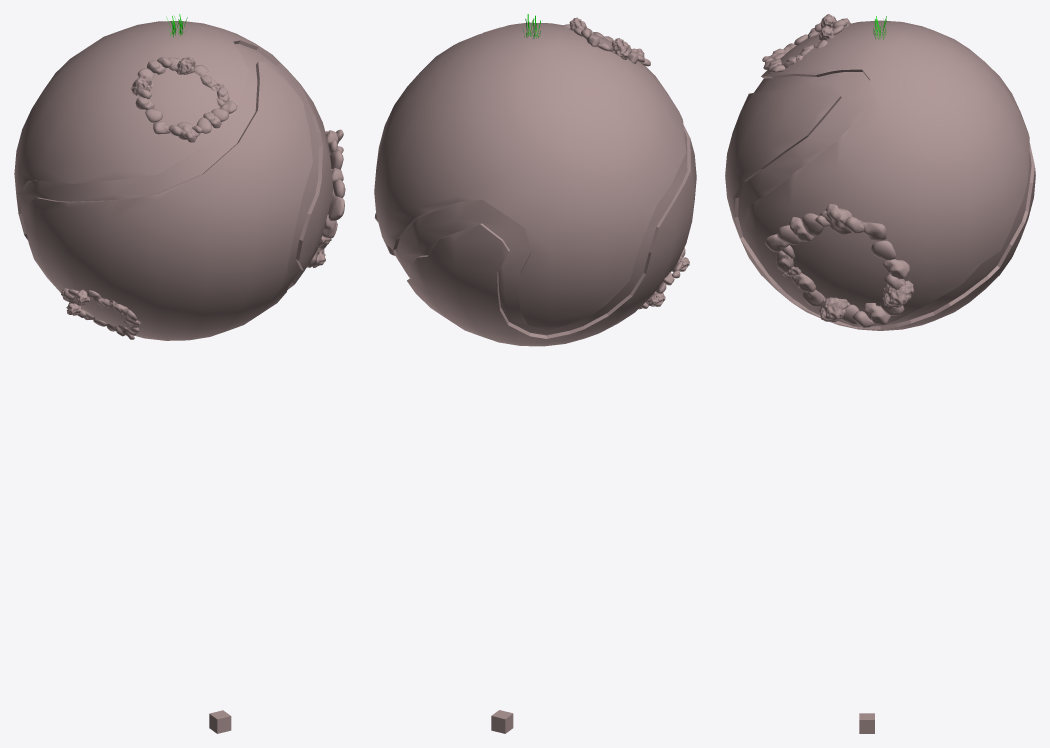
Rendered from wakusei.fbx.
The picture shows the model from 3 angles, left to right: view 1: azimuth 30°, elevation 25°; view 2: azimuth 150°, elevation 25°; view 3: azimuth 270°, elevation 25°; orthographic projection. The views are drawn at different scales.
Parts seen in each view (by area): view 1: pSphere1, Mesh20, Mesh21, Mesh22; view 2: pSphere1, Mesh20, Mesh22; view 3: pSphere1, Mesh21, Mesh20.
Boxes of the visible parts, x1,y1,x2,y2 form: pSphere1: [14, 21, 332, 340]; Mesh20: [131, 57, 237, 142]; Mesh21: [307, 129, 345, 267]; Mesh22: [61, 288, 141, 339]; pSphere1: [374, 22, 696, 346]; Mesh20: [562, 17, 650, 66]; Mesh22: [639, 248, 689, 309]; pSphere1: [725, 20, 1035, 330]; Mesh21: [765, 204, 914, 327]; Mesh20: [762, 14, 850, 74].
Bounding box in the file's own units: 20.65 × 49.34 × 20.
